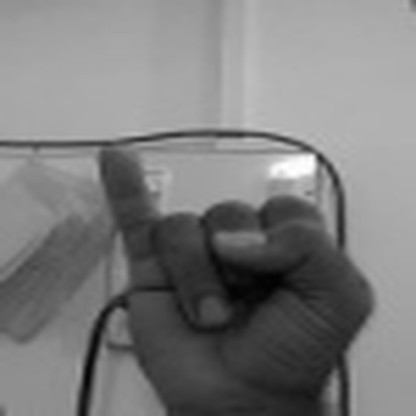i: (95, 143, 377, 414)
